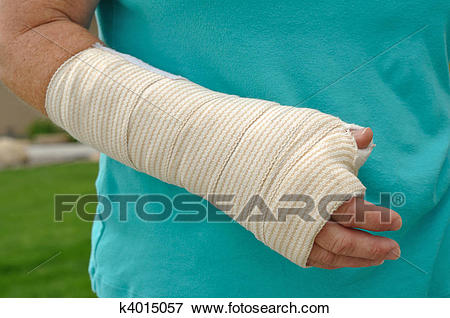injured: (44, 36, 369, 199)
